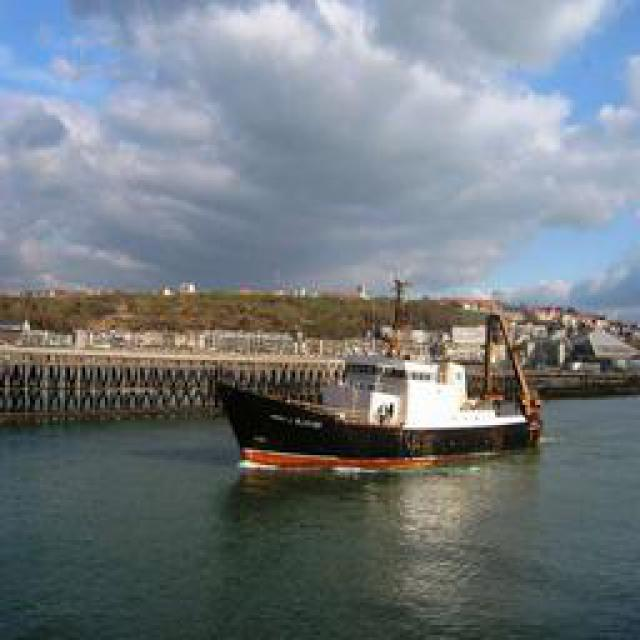Ship: (228, 317, 543, 470)
